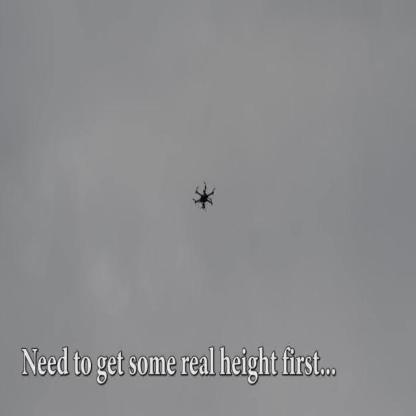drone: (190, 178, 217, 215)
